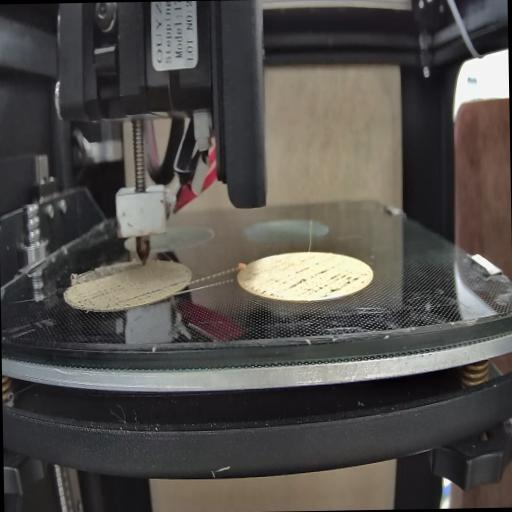under_extrusion: (252, 266, 368, 302), (122, 275, 187, 305), (64, 267, 88, 292)
